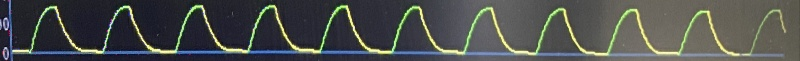normal_volume: (11, 0, 748, 61)
